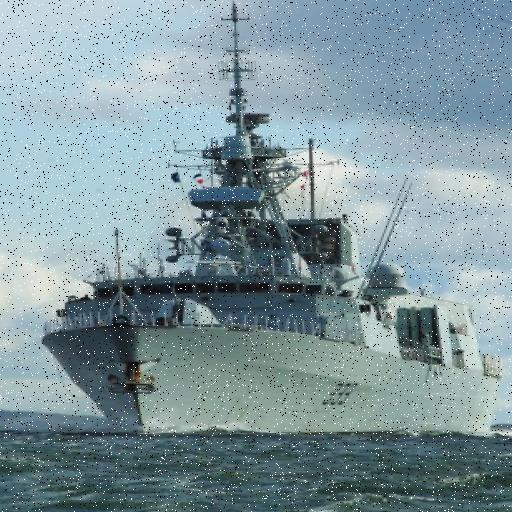Fragata: (38, 1, 507, 446)
